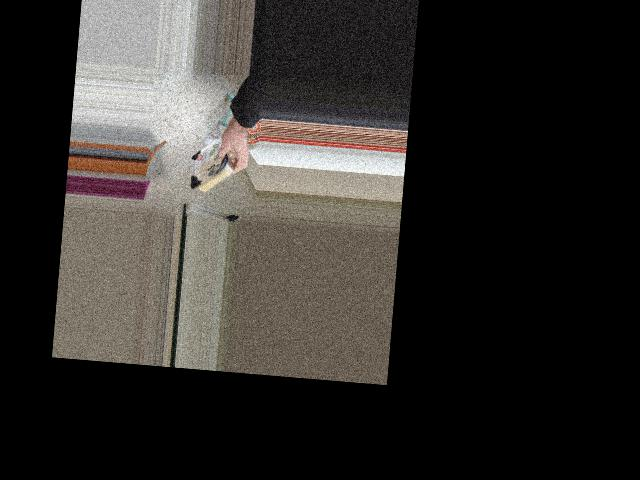cheese: (171, 138, 253, 209)
